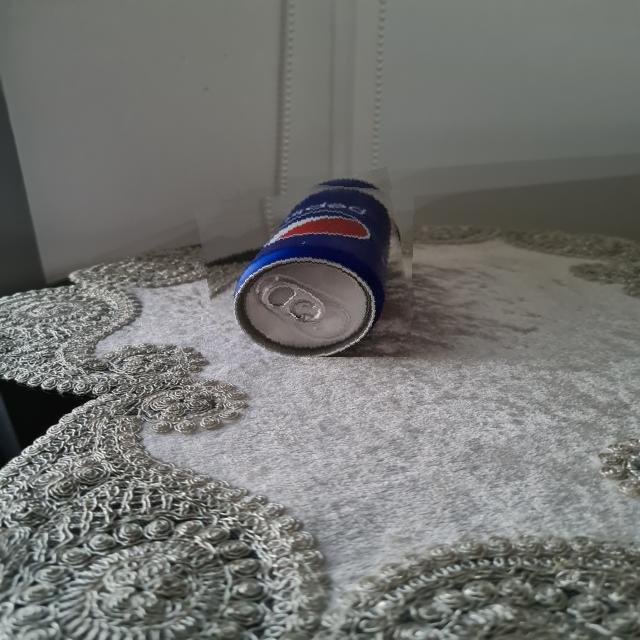recyclable: (201, 177, 414, 357)
